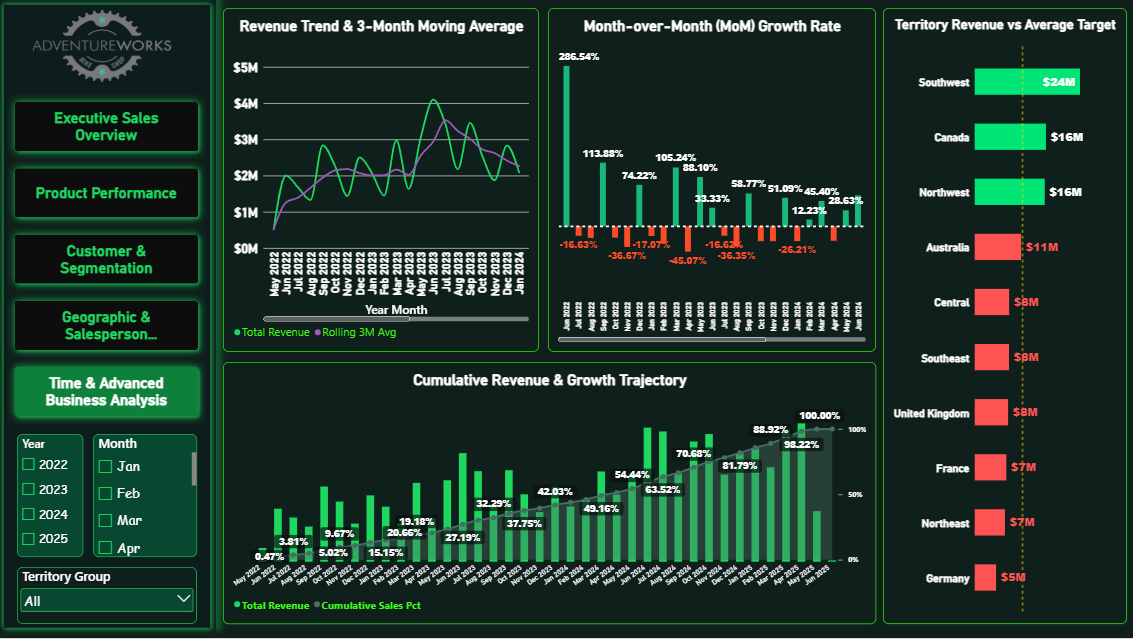

This screenshot's page, from the dashboard's own definition file:
{"tool":"powerbi","page":{"name":"Time & Advanced Business  Analysis","canvas":[1920,1080],"ordinal":4},"visuals":[{"type":"shape","box":[0,0,368,1072],"z":0},{"type":"pageNavigator","box":[16,160,336,560],"z":1000},{"type":"image","box":[32,16,288,128],"z":2000},{"type":"slicer","fields":{"Values":["Calender.Year"]},"box":[32,736,112,208],"z":3000},{"type":"slicer","fields":{"Values":["Calender.Month"]},"box":[160,736,176,208],"z":4000},{"type":"lineStackedColumnComboChart","title":"Cumulative Revenue & Growth Trajectory","fields":{"Category":["Calender.Year Month"],"Y":["CALC ( Executive Sales Overview).Total Revenue"],"Y2":["CALC(Time & Advanced Business  Analysis).Cumulative Sales Pct"]},"box":[380.3,613.5,1103.7,442.8],"z":5001},{"type":"lineChart","title":"Revenue Trend & 3-Month Moving Average","fields":{"Category":["Calender.Year Month"],"Y":["CALC ( Executive Sales Overview).Total Revenue","CALC(Time & Advanced Business  Analysis).Rolling 3M Avg"]},"box":[380.3,15.2,534.1,581.4],"z":5002},{"type":"clusteredColumnChart","title":"Month-over-Month (MoM) Growth Rate","fields":{"Category":["Calender.Year Month"],"Y":["CALC(Time & Advanced Business  Analysis).MoM Growth %"]},"box":[929.6,15.2,554.4,581.4],"z":5003},{"type":"clusteredBarChart","title":"Territory Revenue vs Average Target","fields":{"Category":["Sales SalesTerritory.Name"],"Y":["CALC ( Executive Sales Overview).Total Revenue"]},"box":[1495.8,15.2,412.4,1041.1],"z":5004},{"type":"slicer","fields":{"Values":["Sales SalesTerritory.Group"]},"box":[32,960,304,96],"z":5005}]}

Visuals, with their boxes in screenshot pixels (x1, y1, x2, y2), scaled from the page's 1920x1080 canvas onto the 1133x639 screenshot:
shape: bbox=[0, 0, 217, 634]
pageNavigator: bbox=[9, 95, 208, 426]
image: bbox=[19, 9, 189, 85]
slicer - Calender.Year: bbox=[19, 435, 85, 559]
slicer - Calender.Month: bbox=[94, 435, 198, 559]
"Cumulative Revenue & Growth Trajectory" lineStackedColumnComboChart: bbox=[224, 363, 876, 625]
"Revenue Trend & 3-Month Moving Average" lineChart: bbox=[224, 9, 540, 353]
"Month-over-Month (MoM) Growth Rate" clusteredColumnChart: bbox=[549, 9, 876, 353]
"Territory Revenue vs Average Target" clusteredBarChart: bbox=[883, 9, 1126, 625]
slicer - Sales SalesTerritory.Group: bbox=[19, 568, 198, 625]
